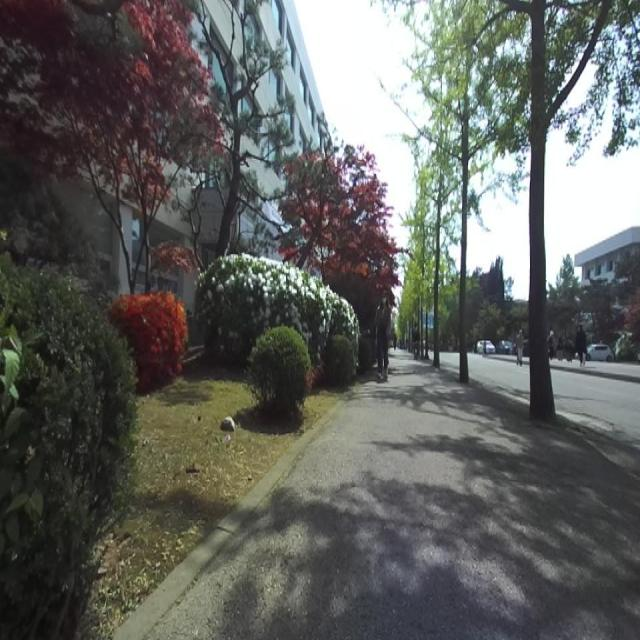sidewalk: (152, 352, 640, 640)
